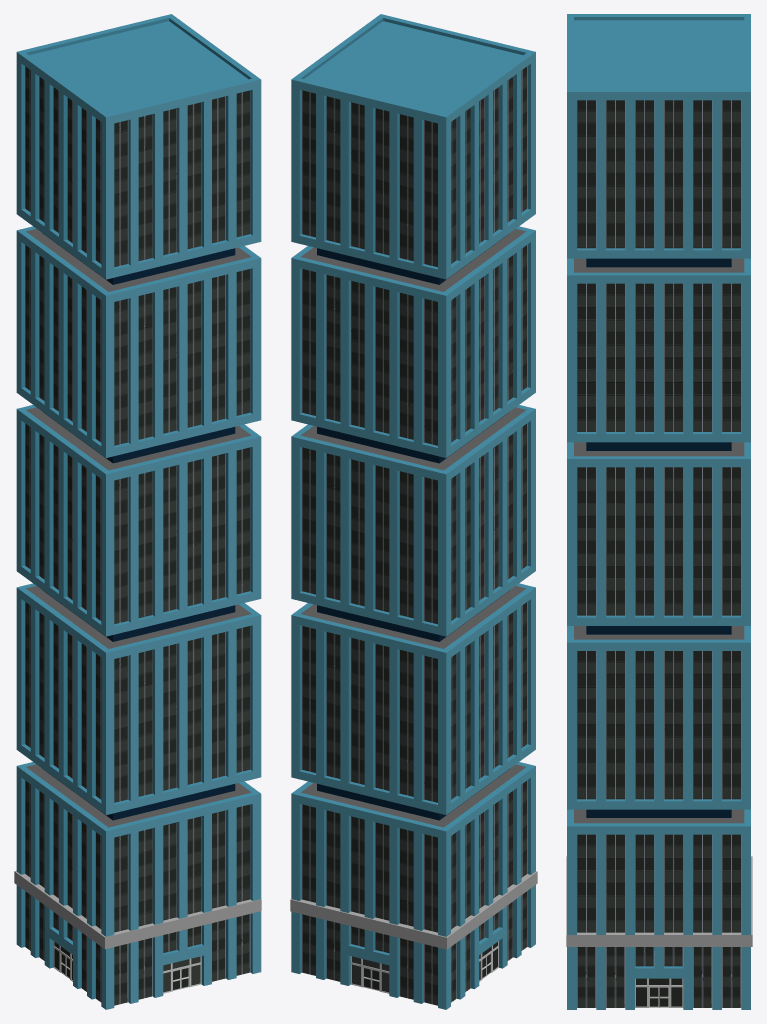
3 renders of one model, left to right at view 1: azimuth 30°, elevation 25°; view 2: azimuth 150°, elevation 25°; view 3: azimuth 270°, elevation 25°, orthographic. The views are drawn at different scales.
Parts seen in each view (by area): view 1: EC-19; view 2: EC-19; view 3: EC-19.
Part boxes in pixels (x1=…): EC-19: x1=14, y1=14, x2=261, y2=1009; EC-19: x1=290, y1=14, x2=537, y2=1009; EC-19: x1=566, y1=14, x2=752, y2=1009.
Size of what is drawn, in the model's own units: 20.22 by 110 by 20.22.
